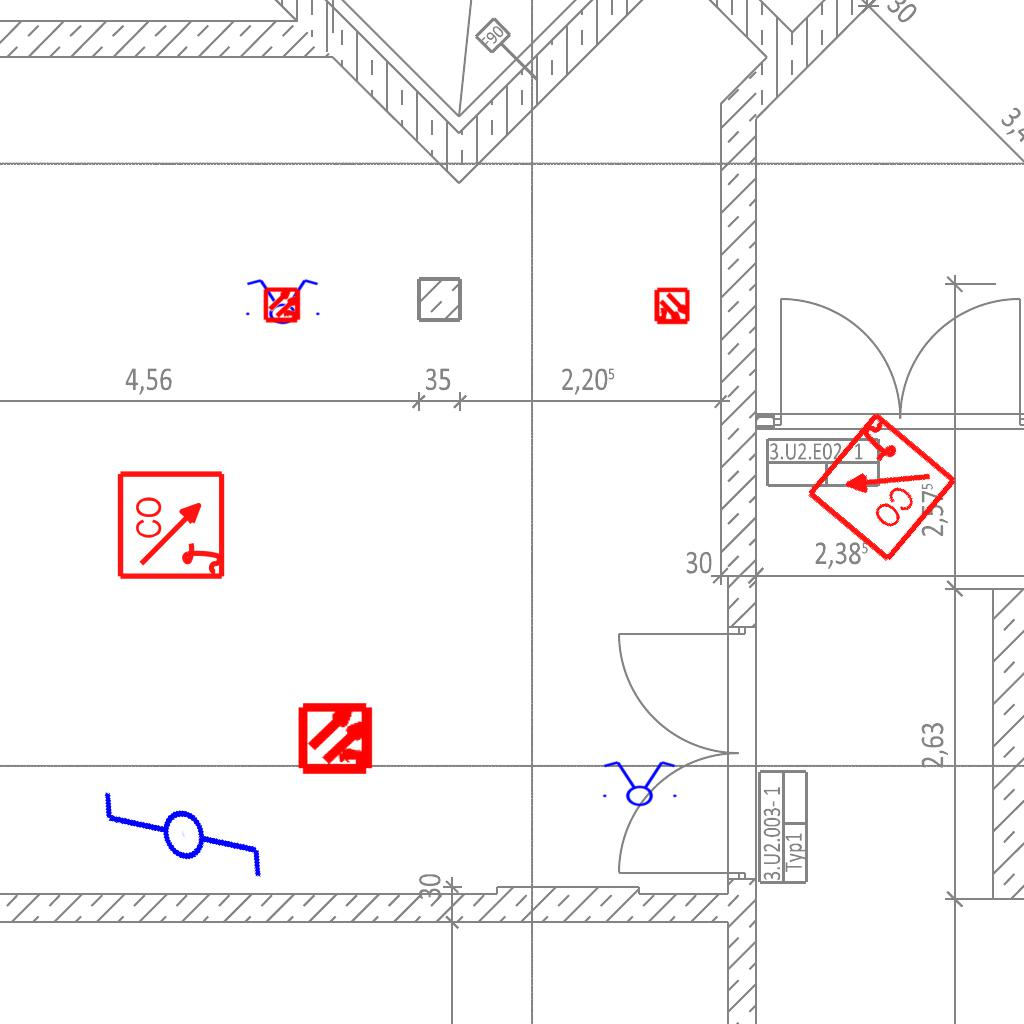OT_Multisensormelder_(Kombination_RMO_WMD): (281, 682, 394, 795), (644, 279, 700, 335), (255, 277, 311, 333)
ROA_Rauchmelder_optisch_mit_Signalgeber_(Sockelsirene): (800, 406, 961, 567), (116, 468, 229, 581)
Serienschalter: (240, 277, 324, 325), (597, 759, 681, 807)
Wechselschalter: (89, 744, 280, 942)
